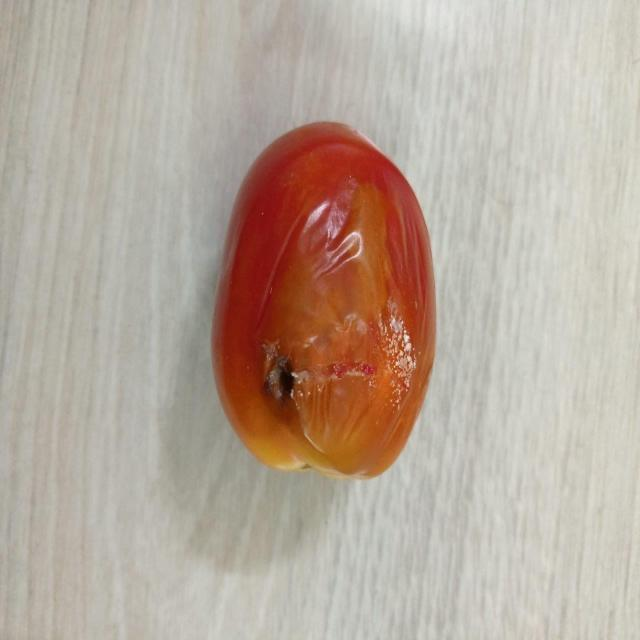Rotten: (210, 118, 440, 480)
